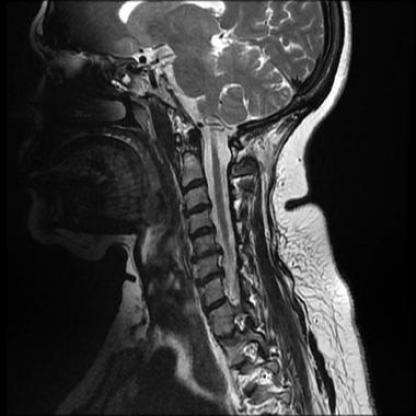Disc Protrusionrotation: (188, 226, 216, 240), (193, 248, 222, 261), (196, 270, 225, 283), (183, 203, 212, 216)
Osteophytesrotation: (188, 225, 216, 239), (183, 203, 213, 216), (192, 248, 222, 261), (196, 271, 225, 283)
